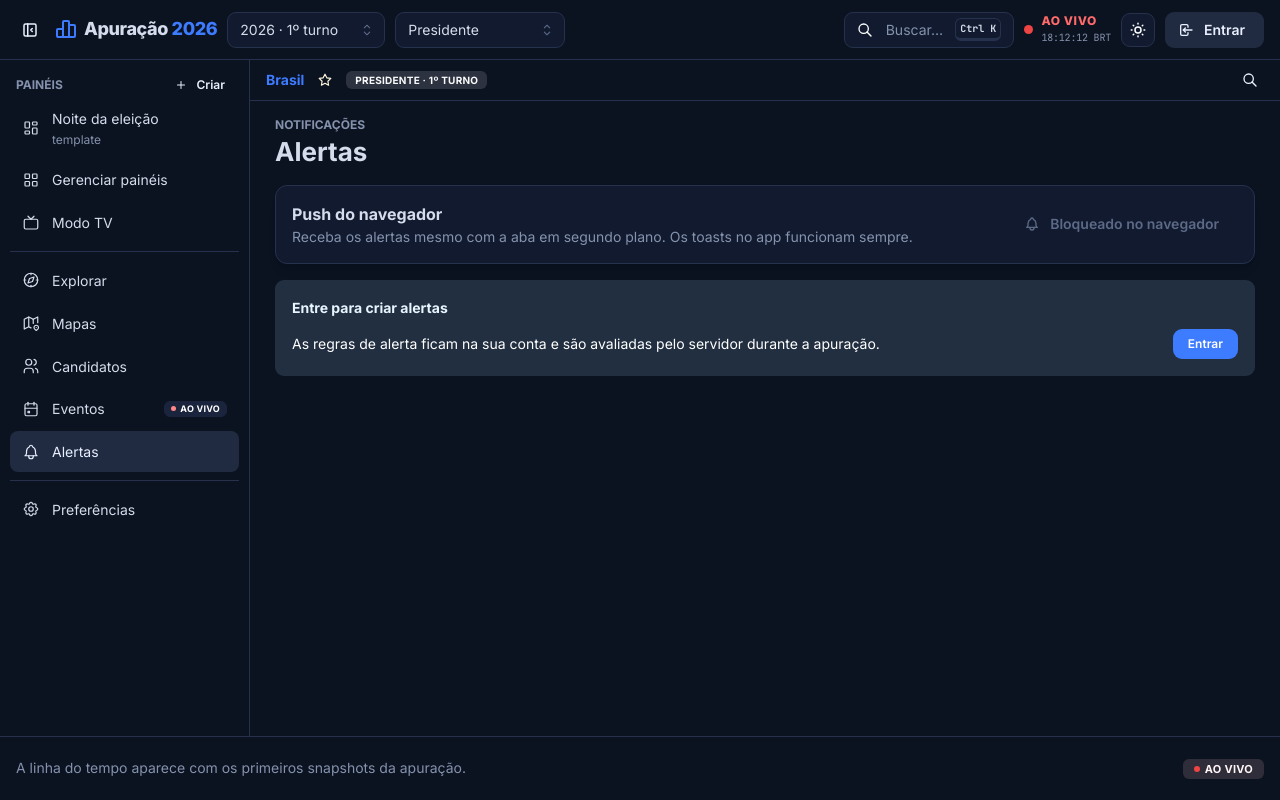
Scenario: alerts screen, visitor › opens the sign-in modal from the prompt
The width and height of the screenshot is (1280, 800).
Click the button "Entrar" in the row of "2026".
click(1214, 30)  # box [1165,12,1264,48]
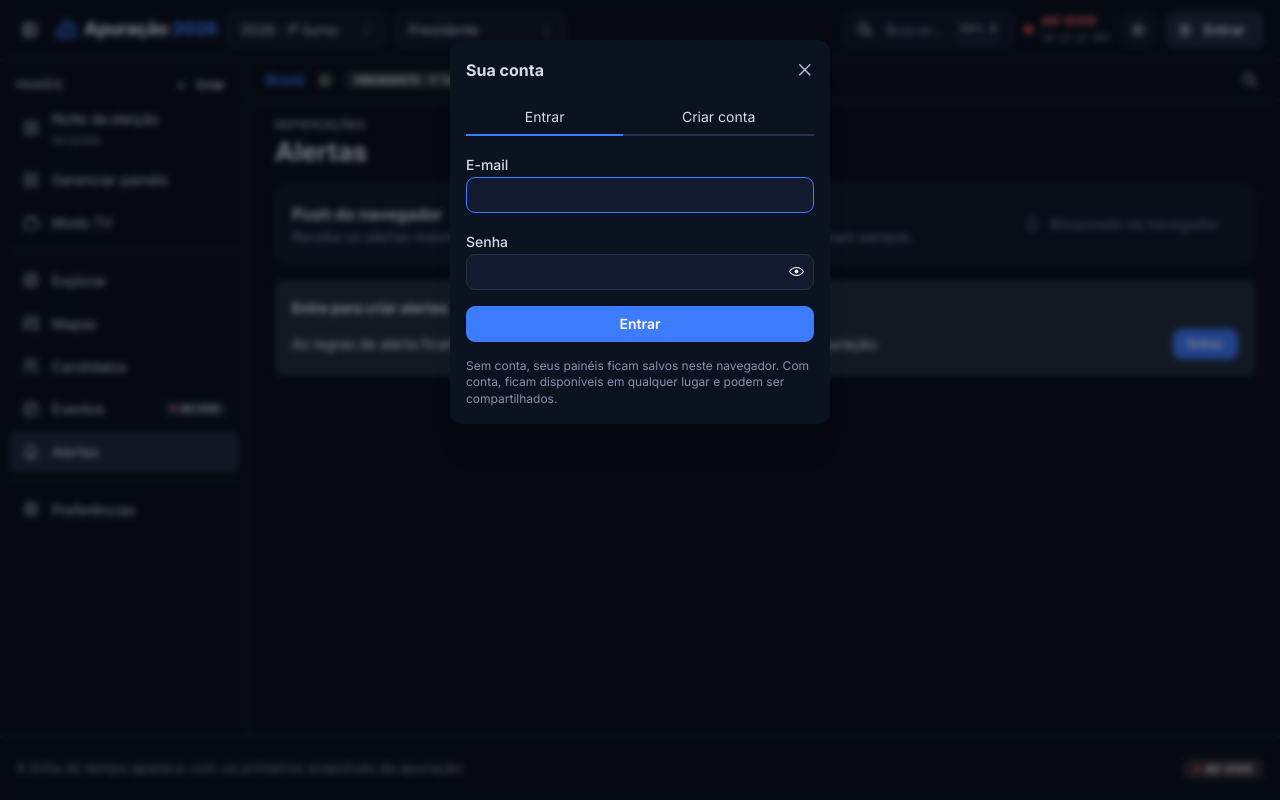
Result: the dialog is shown at [450,40,830,424]
